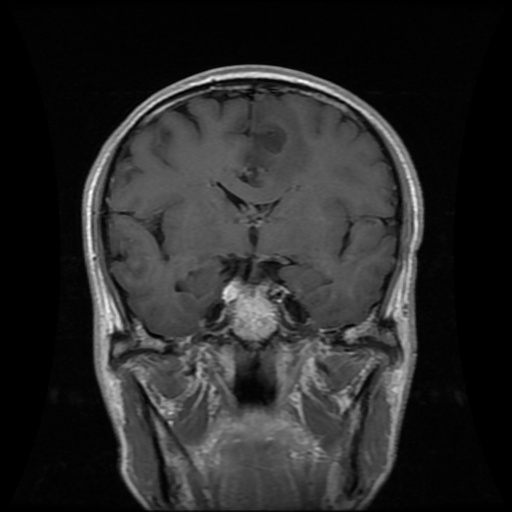glioma: (228, 98, 309, 183)
